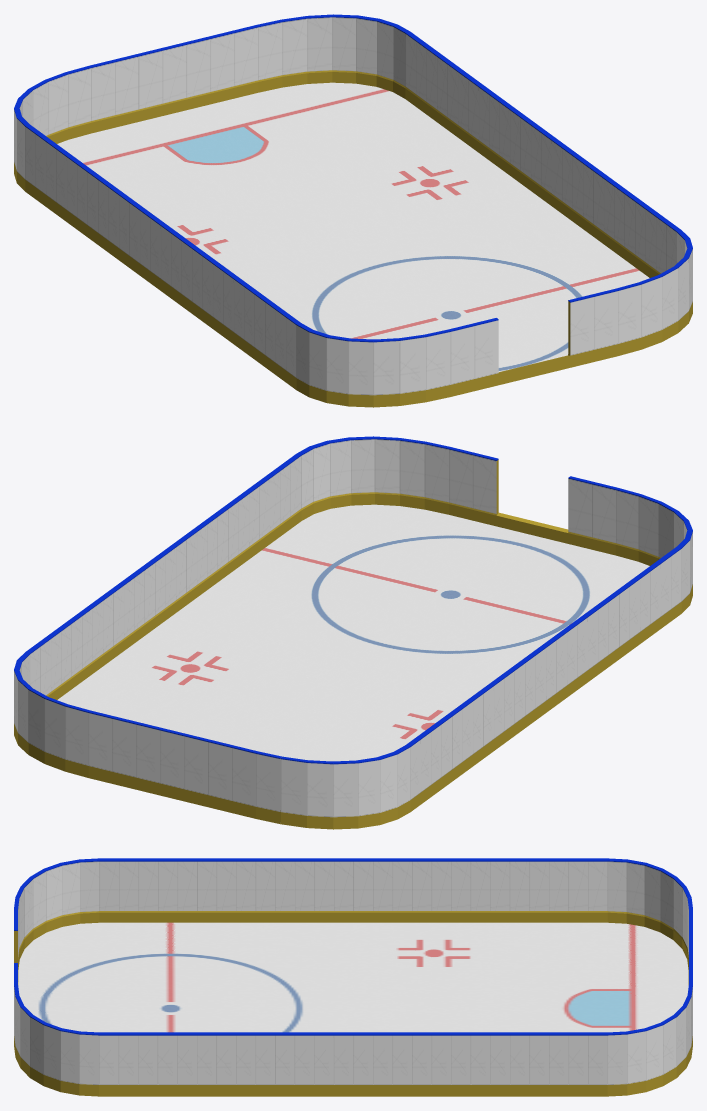
Rendered from pista.glb.
3 views of the same model, one above another, from view 1: azimuth 30°, elevation 25°; view 2: azimuth 150°, elevation 25°; view 3: azimuth 270°, elevation 25° (orthographic). The views are drawn at different scales.
Parts seen in each view (by area): view 1: Boards; view 2: Boards; view 3: Boards.
Boxes of the visible parts, left/top/right/bottom form: Boards: left=14, top=14, right=692, bottom=407; Boards: left=14, top=436, right=692, bottom=829; Boards: left=14, top=858, right=692, bottom=1096.
Bounding box in the file's own units: 6 × 0.9826 × 9.77.
Materials: 4 (2 with a texture image).
